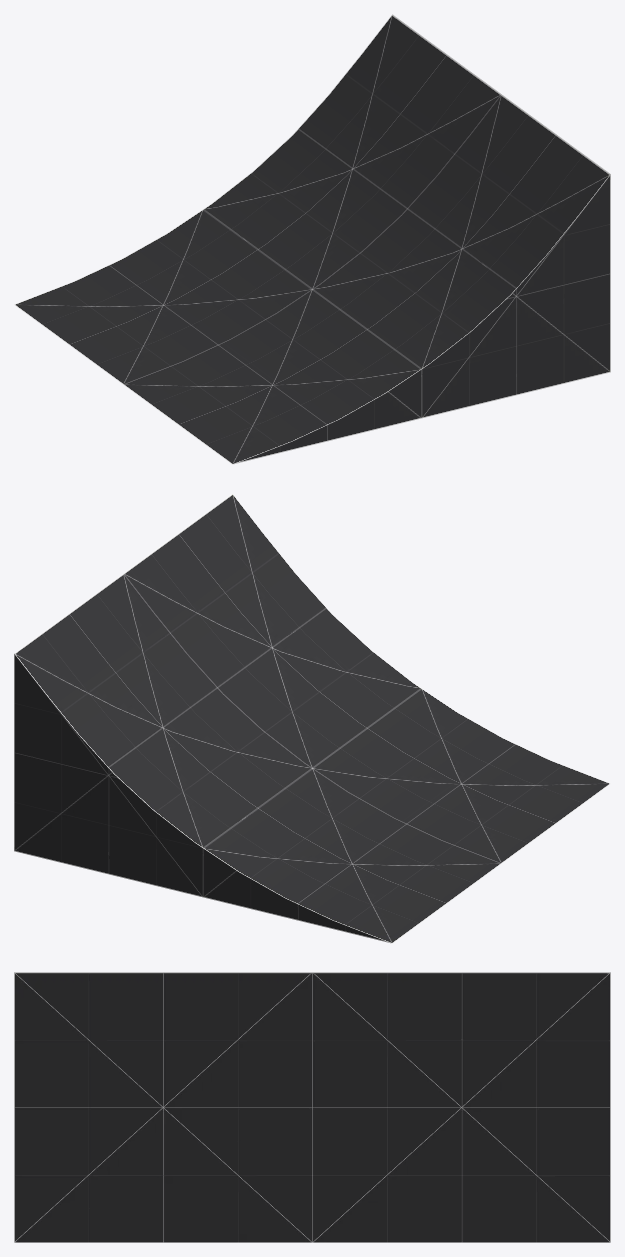
Rendered from ramp-transformed.glb.
3 renders of one model, top to bottom at view 1: azimuth 30°, elevation 25°; view 2: azimuth 150°, elevation 25°; view 3: azimuth 270°, elevation 25°, orthographic. The views are drawn at different scales.
Parts seen in each view (by area): view 1: Ramp; view 2: Ramp; view 3: Ramp.
Part boxes in pixels (x1=…): Ramp: x1=14, y1=14, x2=610, y2=464; Ramp: x1=14, y1=493, x2=610, y2=943; Ramp: x1=14, y1=972, x2=610, y2=1242.
Size of the model in its own units: 10 by 5 by 10.
1 material, 1 textured.
